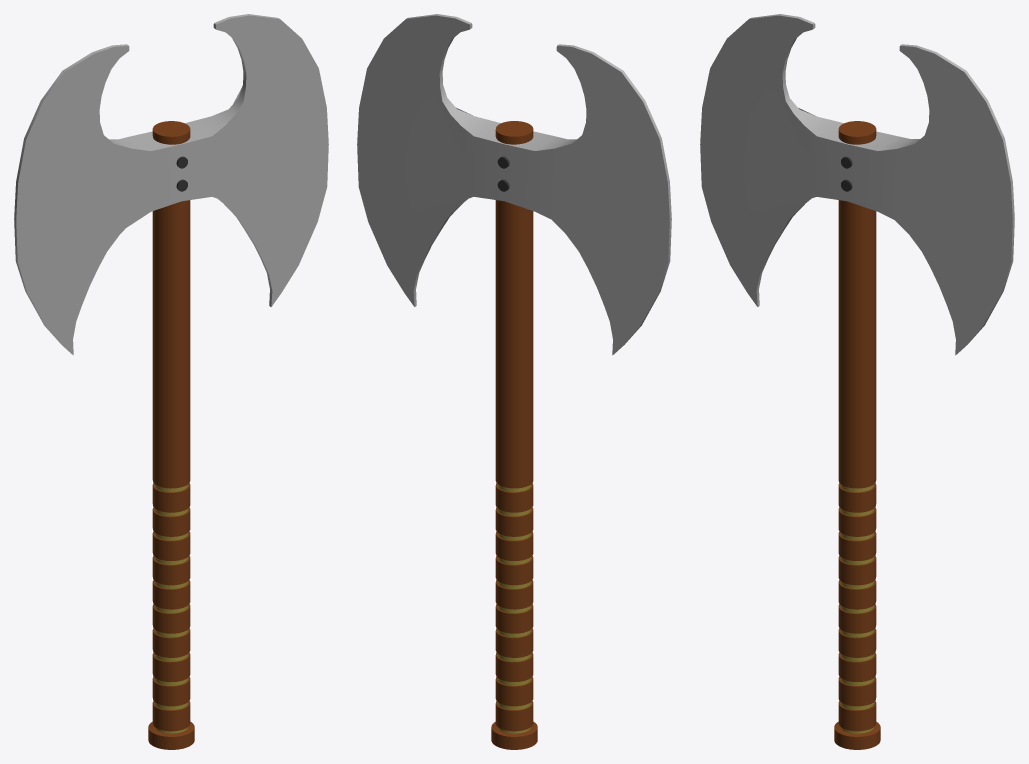
The model's file is Balta.fbx.
3 renders of one model, left to right at view 1: azimuth 30°, elevation 25°; view 2: azimuth 150°, elevation 25°; view 3: azimuth 330°, elevation 25°, orthographic.
Visible parts, largest first — view 1: Cube.002; view 2: Cube.002; view 3: Cube.002.
Part boxes in pixels (x1,y1,x2,y2): Cube.002: (14,14,328,749); Cube.002: (357,14,671,749); Cube.002: (700,14,1014,749).
Bounding box in the file's own units: 72.79 × 158 × 9.39.
